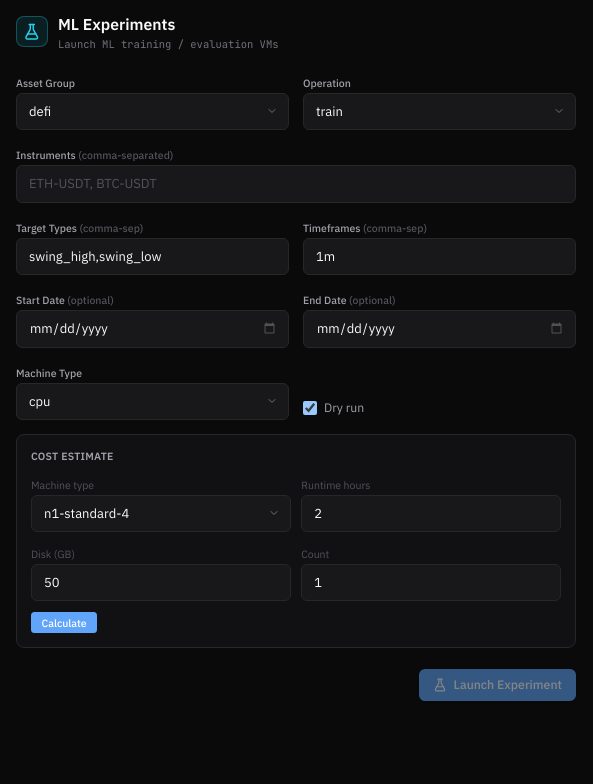
Test: MlExperiments › shows DRY RUN badge when result.dry_run is true
This screenshot has width=593, height=784.
Type "ETH-USDT" into the field with test id "instruments-input" at {"x": 296, "y": 184}, box left=16, top=165, right=576, bottom=202
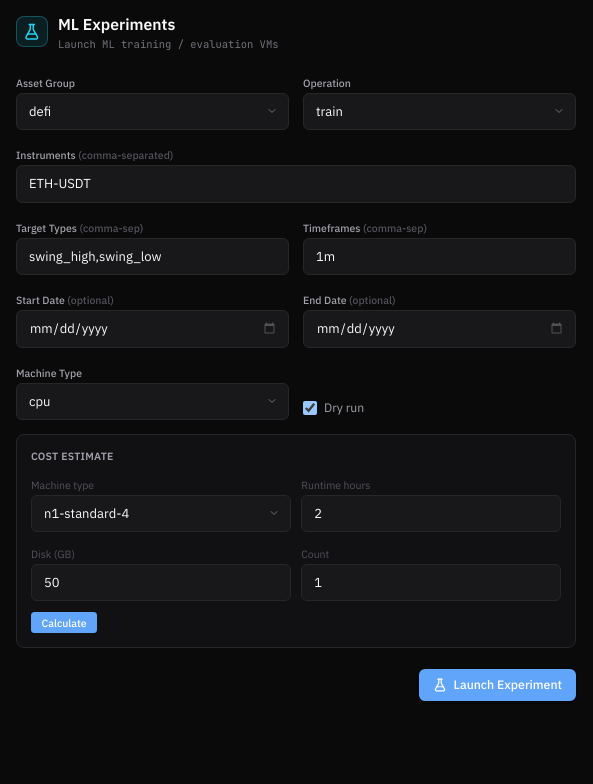
Click the button with test id "launch-button" at {"x": 497, "y": 685}, box left=419, top=669, right=576, bottom=700
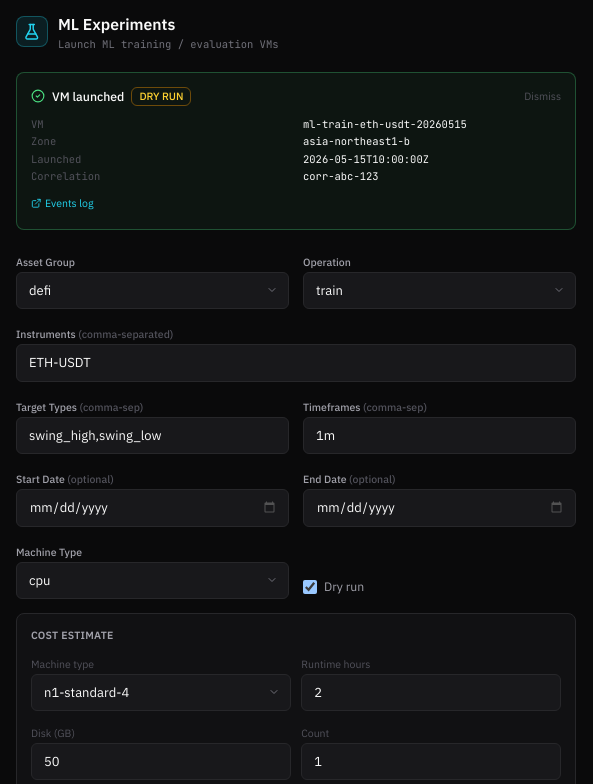
Result: the text "DRY RUN" is shown at left=131, top=86, right=191, bottom=106
